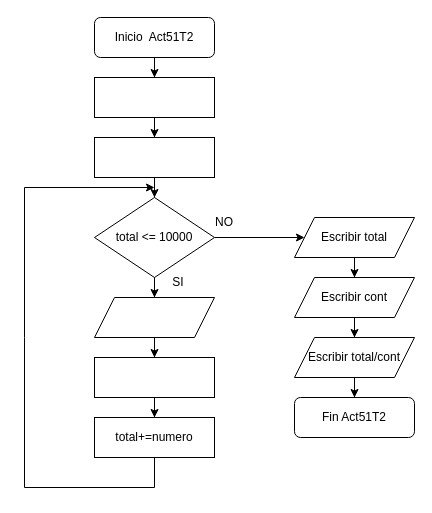
This 432x513 diagram has some shape labels left out. Here are the shapes that lost their labels. From the top down, the centre of each, then its label:
At (x=154, y=97): "total = 0".
At (x=154, y=157): "cont = 0".
At (x=154, y=317): "Leer numero".
At (x=154, y=377): "cont++".
